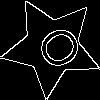O: (26, 21, 85, 78)
